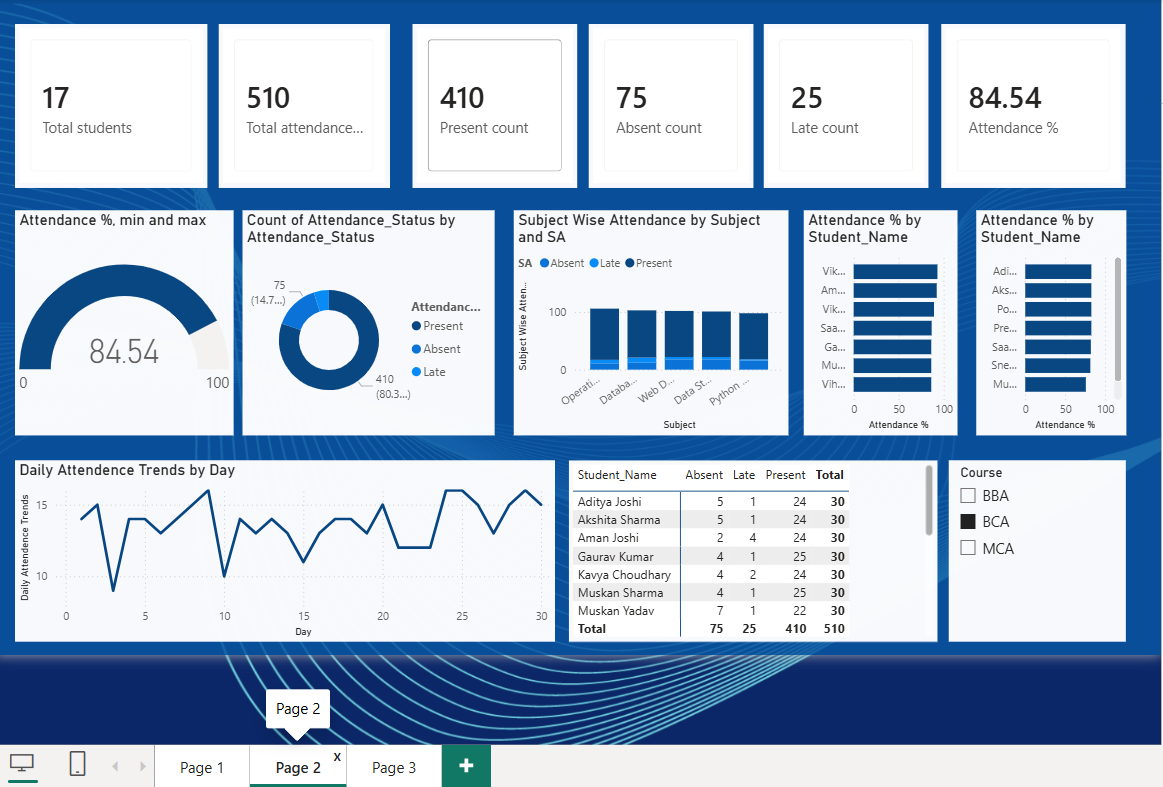

What the dashboard file says about the page in this screenshot:
{"tool":"powerbi","page":{"name":"Page 2","canvas":[1280,720],"ordinal":1},"visuals":[{"type":"cardVisual","fields":{"Data":["Attendance.Total students"]},"box":[22,27.4,211.3,179.8],"z":0},{"type":"cardVisual","fields":{"Data":["Attendance.Late count"]},"box":[843.9,27.4,181.1,179.8],"z":1000},{"type":"cardVisual","fields":{"Data":["Attendance.Absent count"]},"box":[651.8,27.4,181.1,179.8],"z":2000},{"type":"cardVisual","fields":{"Data":["Attendance.Present count"]},"box":[458.3,27.4,181.1,179.8],"z":3000},{"type":"cardVisual","fields":{"Data":["Attendance.Total attendance records"]},"box":[245.6,27.4,188,179.8],"z":4000},{"type":"cardVisual","fields":{"Data":["Attendance.Attendance %"]},"box":[1038.7,27.7,202.7,179.8],"z":5000},{"type":"gauge","fields":{"Y":["Attendance.Attendance %"],"MinValue":["Attendance.min"],"MaxValue":["Attendance.max"]},"box":[22,231.9,240.1,247],"z":6000},{"type":"donutChart","fields":{"Category":["Attendance.Attendance_Status"],"Y":["CountNonNull(Attendance.Attendance_Status)"]},"box":[271.7,231.9,277.2,247],"z":7000},{"type":"lineChart","fields":{"Y":["Attendance.Present count"],"Category":["Attendance.Attendance_Date.Variation.Date Hierarchy.Day"]},"box":[22,506.3,592.8,199],"z":8000},{"type":"columnChart","fields":{"Category":["Attendance.Subject"],"Series":["Attendance.Attendance_Status"],"Y":["CountNonNull(Attendance.Attendance_ID)"]},"box":[569.5,231.9,301.9,247],"z":9000},{"type":"clusteredBarChart","fields":{"Category":["Students.Student_Name"],"Y":["Attendance.Attendance %"]},"box":[1077.2,231.9,164.7,247],"z":10000},{"type":"clusteredBarChart","fields":{"Category":["Students.Student_Name"],"Y":["Attendance.Attendance %"]},"box":[887.8,231.9,168.8,247],"z":11000},{"type":"pivotTable","fields":{"Rows":["Students.Student_Name"],"Columns":["Attendance.Attendance_Status"],"Values":["CountNonNull(Attendance.Attendance_ID)"]},"box":[629.8,506.3,404.8,199],"z":12000},{"type":"slicer","fields":{"Values":["Students.Course"]},"box":[1047.2,506.7,194.2,199.1],"z":13000}]}

Visuals, with their boxes in screenshot pixels (x1, y1, x2, y2):
cardVisual - Attendance.Total students: (left=26, top=28, right=215, bottom=189)
cardVisual - Attendance.Late count: (left=762, top=28, right=924, bottom=189)
cardVisual - Attendance.Absent count: (left=590, top=28, right=752, bottom=189)
cardVisual - Attendance.Present count: (left=417, top=28, right=579, bottom=189)
cardVisual - Attendance.Total attendance records: (left=226, top=28, right=395, bottom=189)
cardVisual - Attendance.Attendance %: (left=937, top=28, right=1118, bottom=189)
gauge - Attendance.Attendance % x Attendance.min: (left=26, top=211, right=241, bottom=432)
donutChart - Attendance.Attendance_Status x CountNonNull(Attendance.Attendance_Status): (left=250, top=211, right=498, bottom=432)
lineChart - Attendance.Present count x Attendance.Attendance_Date.Variation.Date Hierarchy.Day: (left=26, top=457, right=557, bottom=635)
columnChart - Attendance.Subject x Attendance.Attendance_Status: (left=516, top=211, right=787, bottom=432)
clusteredBarChart - Students.Student_Name x Attendance.Attendance %: (left=971, top=211, right=1119, bottom=432)
clusteredBarChart - Students.Student_Name x Attendance.Attendance %: (left=802, top=211, right=953, bottom=432)
pivotTable - Students.Student_Name x Attendance.Attendance_Status: (left=570, top=457, right=933, bottom=635)
slicer - Students.Course: (left=944, top=457, right=1118, bottom=635)
